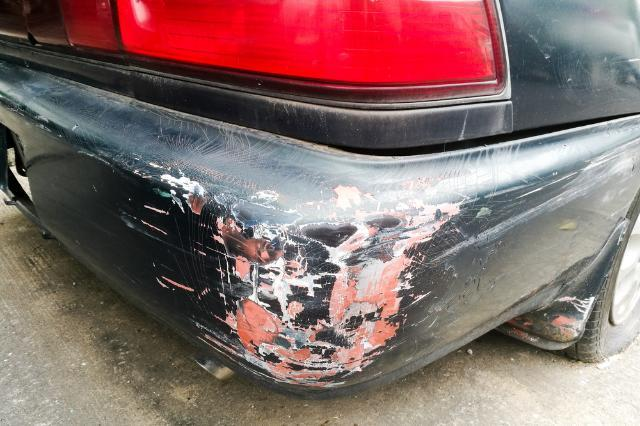scratch: (145, 139, 640, 395)
